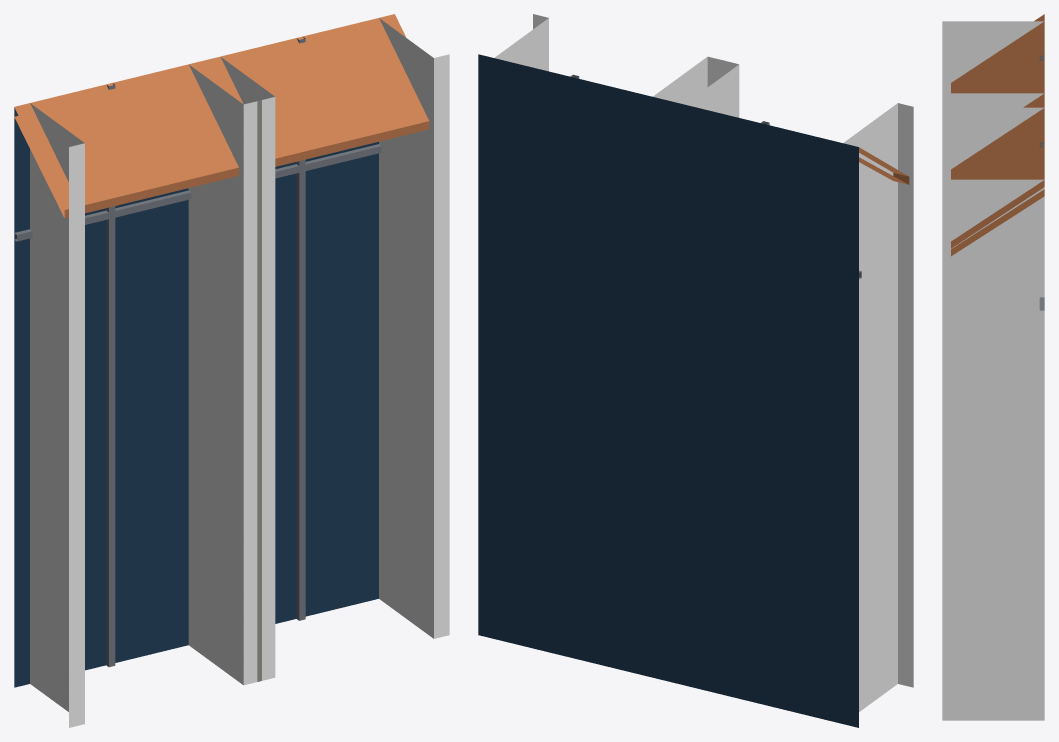
File: mid-w1_close.fbx
3 views of the same model, side by side, from view 1: azimuth 30°, elevation 25°; view 2: azimuth 150°, elevation 25°; view 3: azimuth 270°, elevation 25° (orthographic). The views are drawn at different scales.
Visible parts, largest first — view 1: a2002/600/mid-w1_close; view 2: a2002/600/mid-w1_close; view 3: a2002/600/mid-w1_close.
Boxes of the visible parts, <box> form: a2002/600/mid-w1_close: <box>14,14,449,727</box>; a2002/600/mid-w1_close: <box>478,14,913,727</box>; a2002/600/mid-w1_close: <box>942,14,1044,720</box>.
Size of the model in its own units: 2.4 by 3.5 by 0.601.
